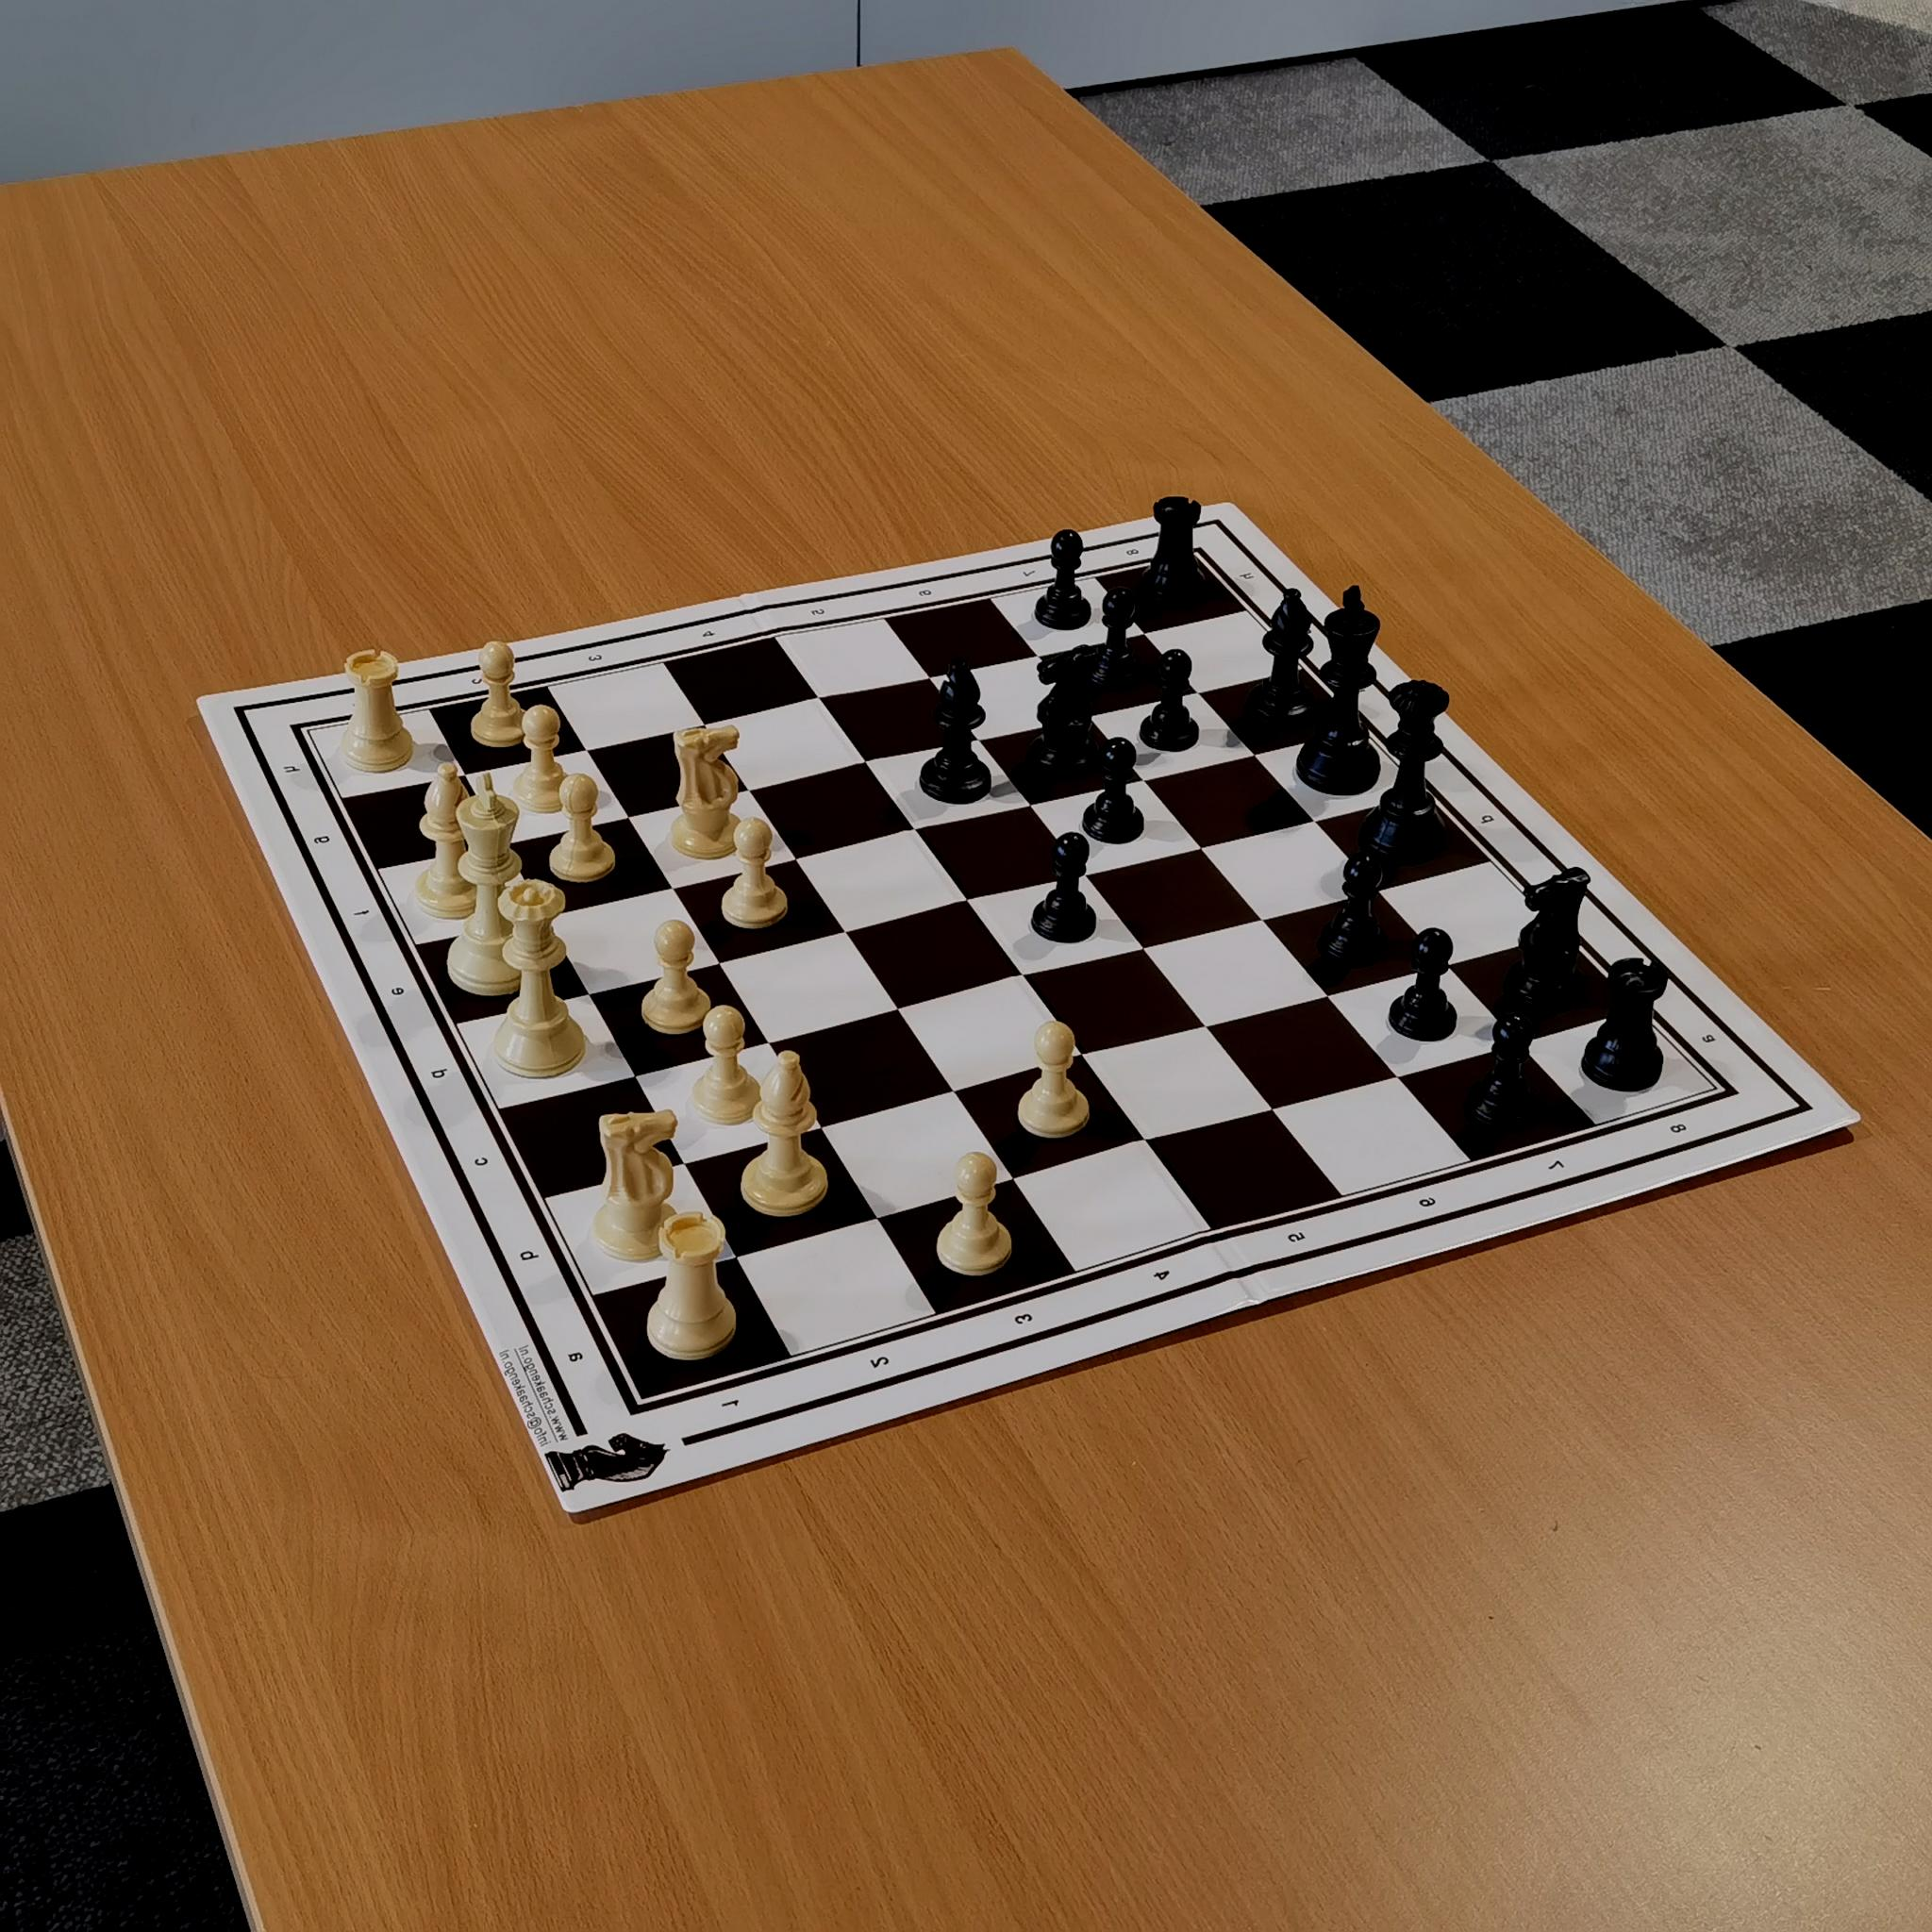corners: (612, 1384, 662, 1435), (1695, 1074, 1752, 1115), (278, 717, 327, 754), (1177, 534, 1217, 577)
eight: (1658, 1104, 1698, 1148), (1111, 536, 1152, 568)
one: (708, 1375, 759, 1424), (338, 686, 372, 717)
